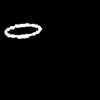chain: (5, 24, 41, 38)
